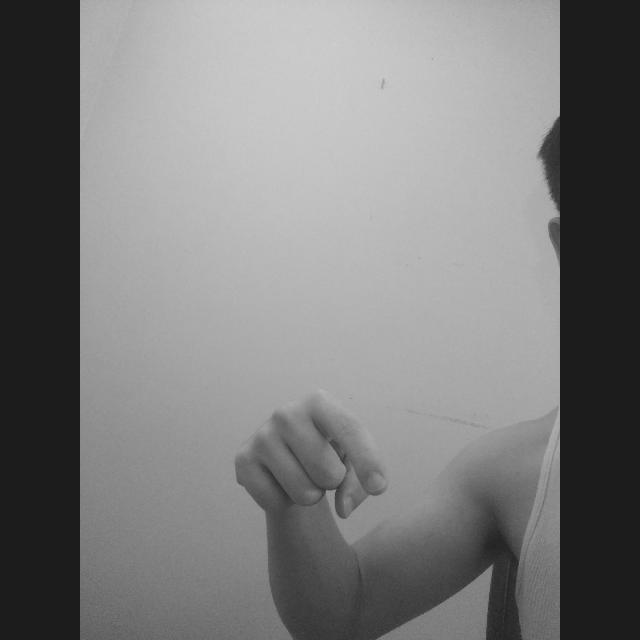Z: (230, 391, 392, 522)
